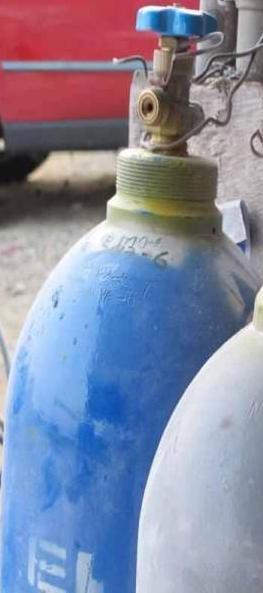cylinder: (1, 1, 263, 593)
